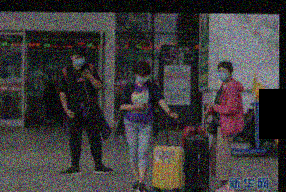with_mask: (217, 65, 230, 82), (71, 54, 86, 68), (137, 71, 149, 85)
